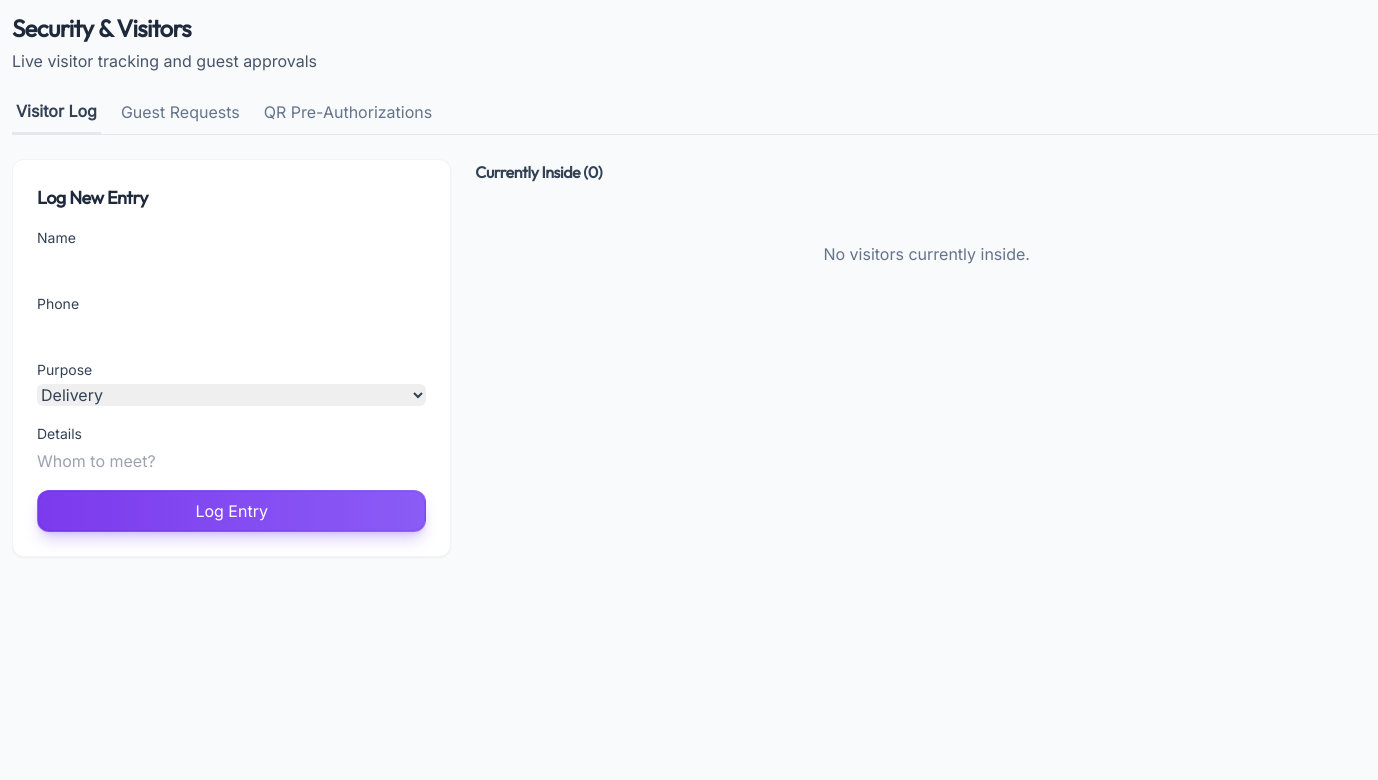
VisitorLog Component – Owner / Security › switches to QR Pre-Authorizations tab
Click the button "QR Pre-Authorizations".
click(348, 116)  # box [260,98,436,134]
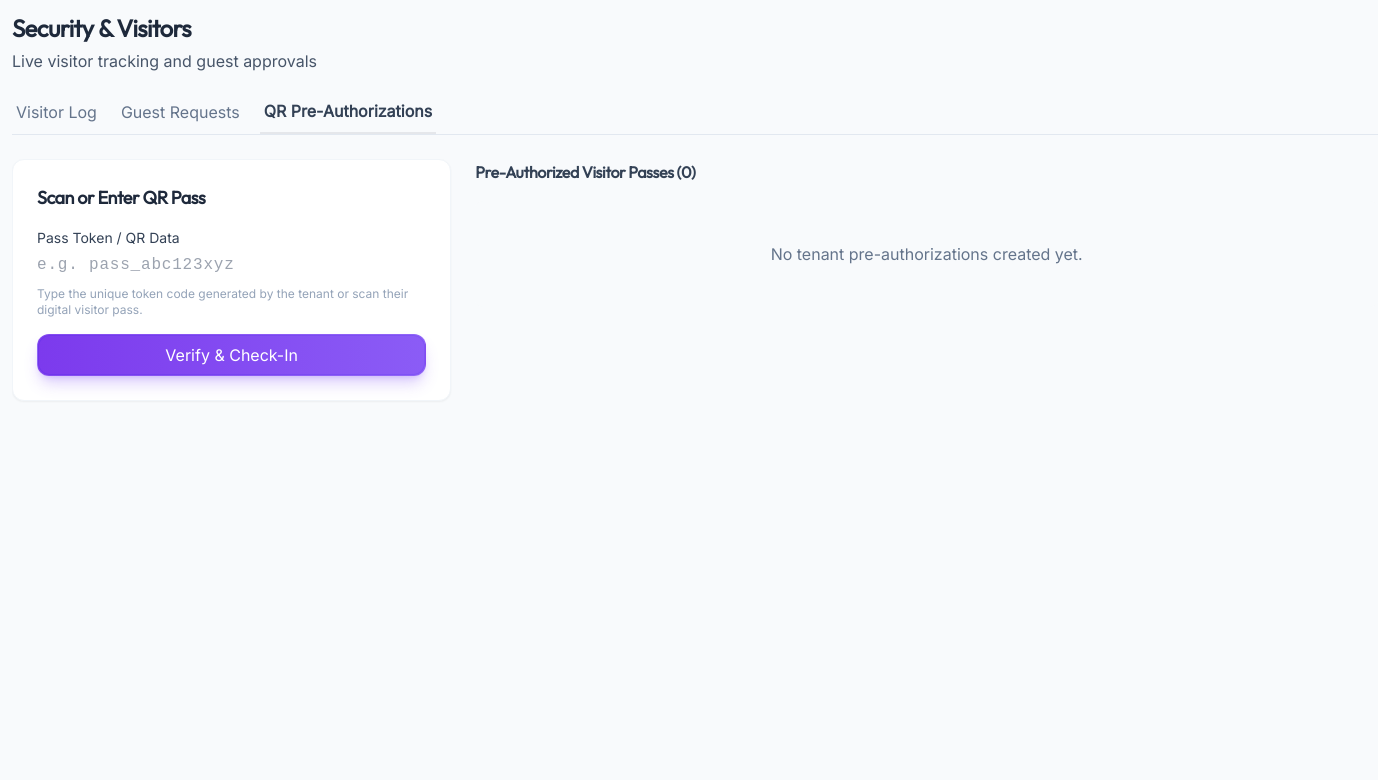
Expected: the heading "Scan or Enter QR Pass" is shown, [37,186,205,209]
